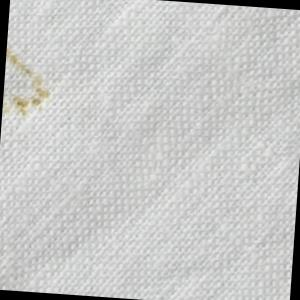Oil Stain: (3, 45, 59, 124)
